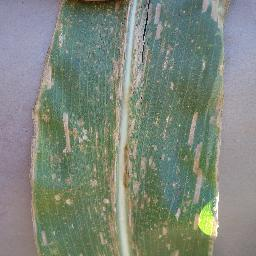Gray_Leaf_Spot: (97, 0, 179, 256), (28, 0, 96, 255), (178, 106, 201, 256), (201, 120, 225, 256), (214, 36, 229, 120), (199, 0, 233, 36), (199, 54, 207, 75)
